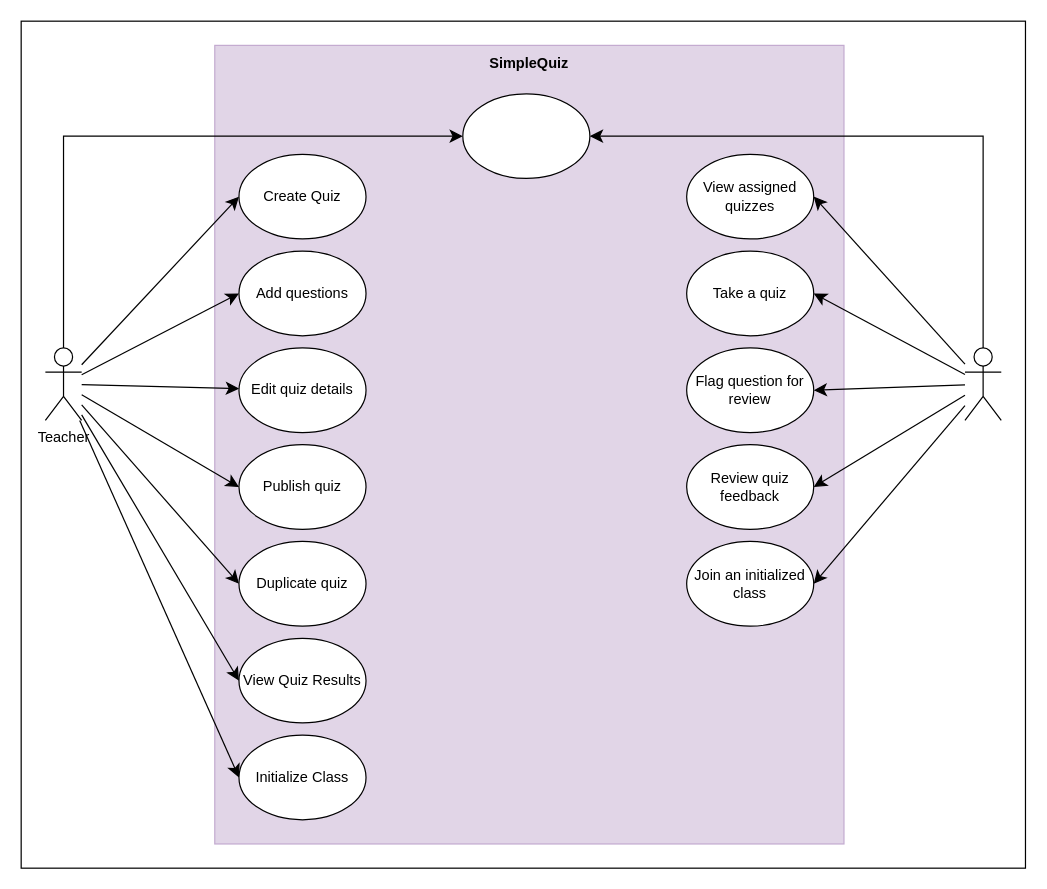
Image size: 1047x889. Some labels were removed from this diagram. Each missing label, with the centre of its shape:
Log in: [526,135]
Student: [982,383]
